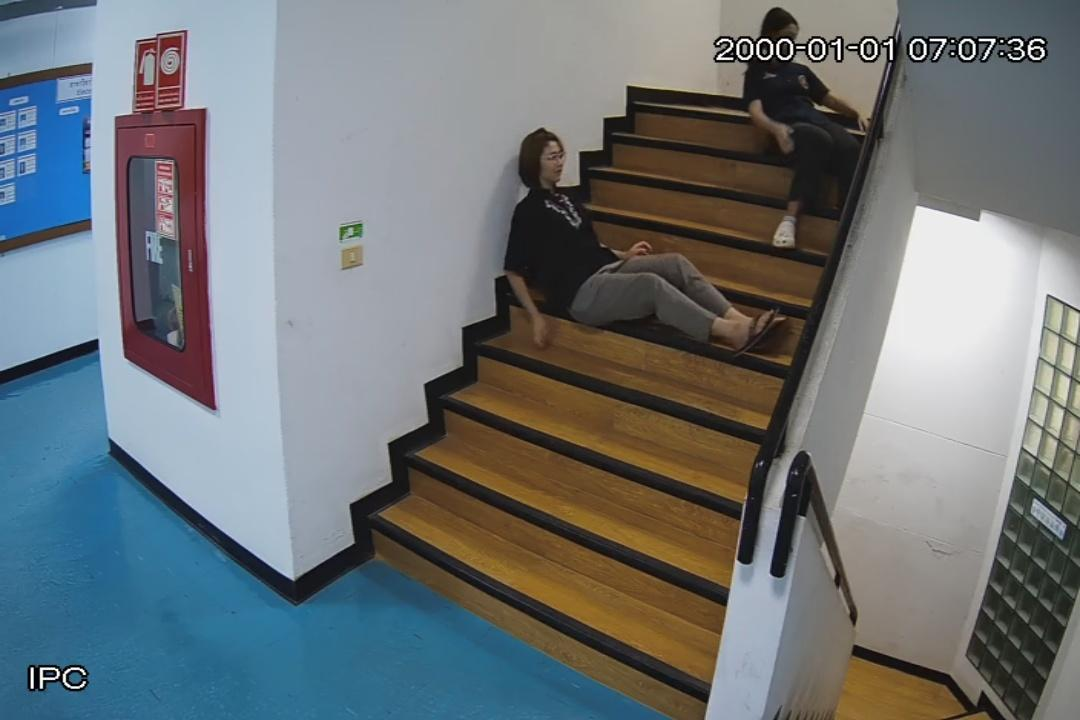fall: (496, 120, 790, 366), (732, 10, 875, 252)
